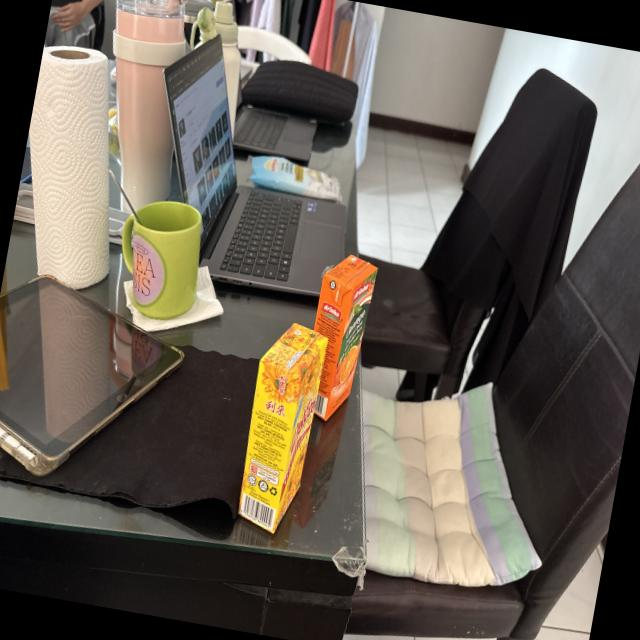drink_carton: (224, 310, 338, 544), (294, 240, 382, 432)
